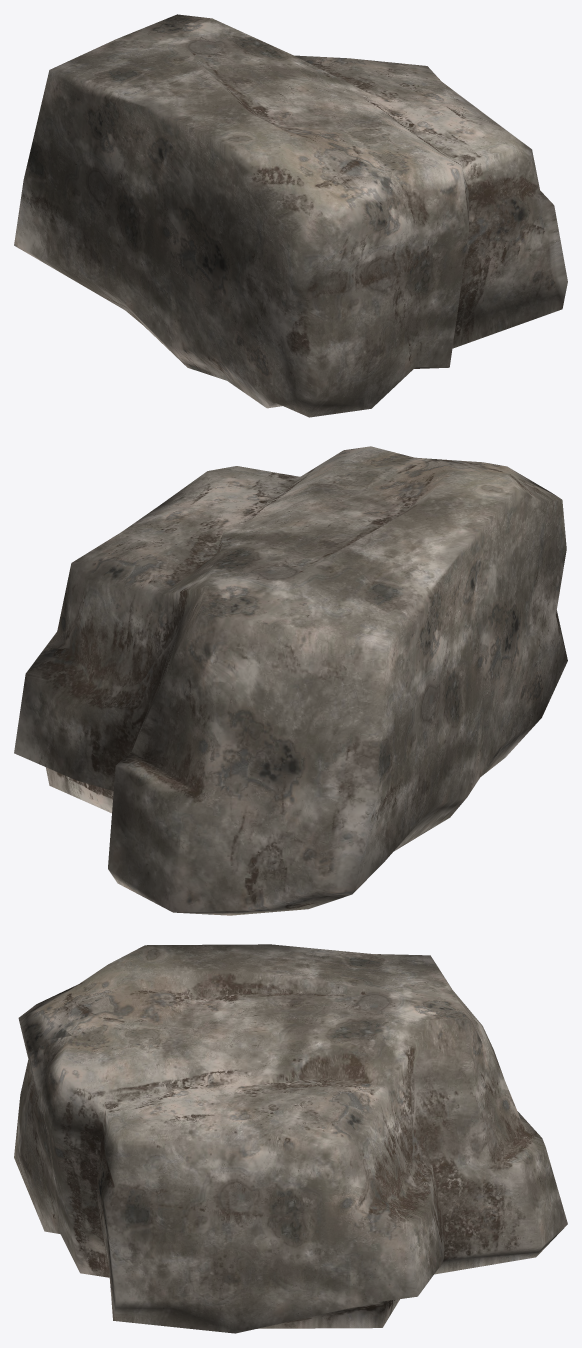
Rendered from Rock_6.fbx.
3 renders of one model, top to bottom at view 1: azimuth 30°, elevation 25°; view 2: azimuth 150°, elevation 25°; view 3: azimuth 270°, elevation 25°, orthographic. The views are drawn at different scales.
Parts seen in each view (by area): view 1: Rock_6; view 2: Rock_6; view 3: Rock_6.
Boxes of the visible parts, x1,y1,x2,y2 form: Rock_6: (14,14,567,417); Rock_6: (14,446,567,915); Rock_6: (14,944,567,1333).
Bounding box in the file's own units: 631 × 442 × 847.
1 material, 1 textured.
